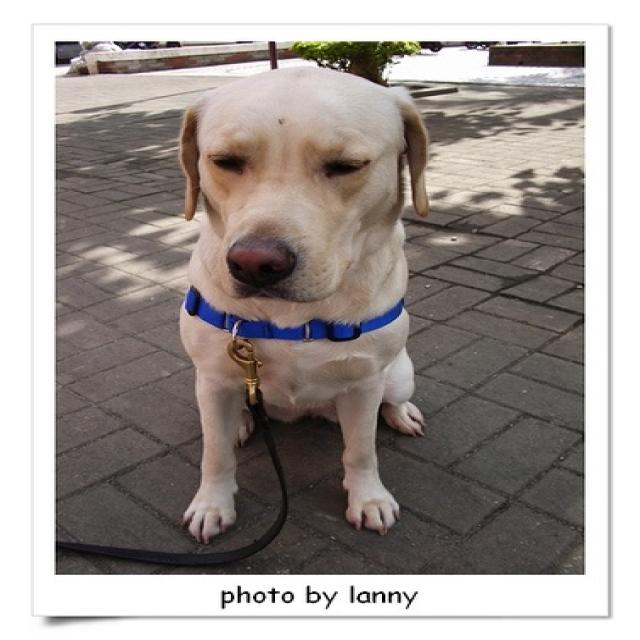dog: (170, 64, 434, 535)
